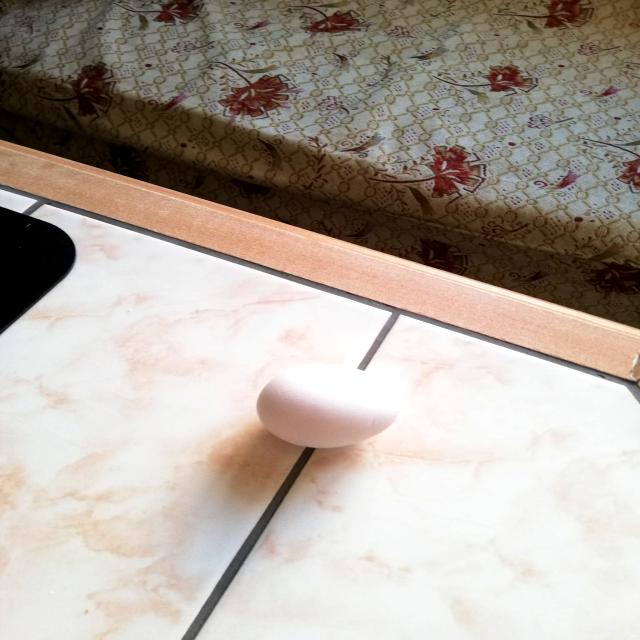egg: (251, 360, 407, 451)
